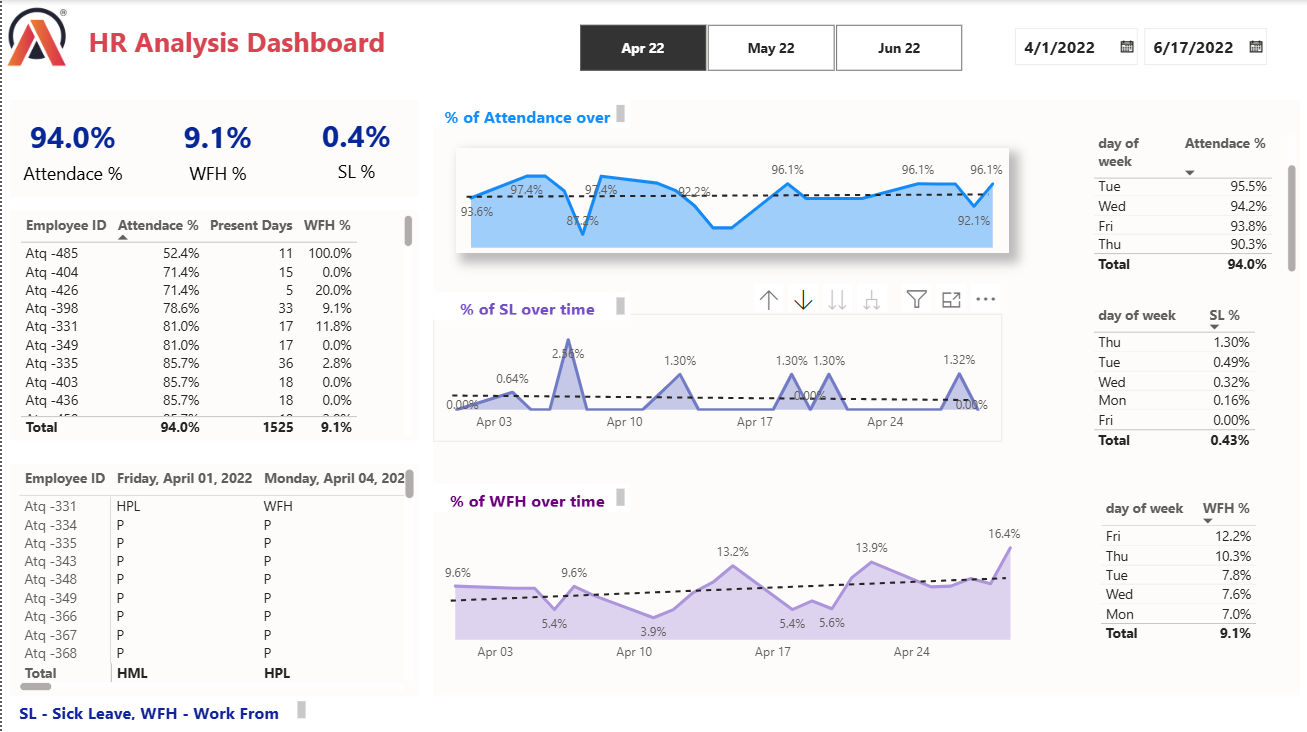

This screenshot's page, from the dashboard's own definition file:
{"tool":"powerbi","page":{"name":"Insights","canvas":[1280,720],"ordinal":0},"visuals":[{"type":"textbox","box":[7.8,205.6,399.9,225.5],"z":0},{"type":"textbox","box":[7.8,453.3,399.8,227.6],"z":1000},{"type":"textbox","box":[422.3,97.9,848.1,582.3],"z":2000},{"type":"textbox","box":[7.8,98,399.9,95.4],"z":3000},{"type":"tableEx","fields":{"Values":["Final Data.Employee ID","Measures (2).Attendace %","Measures (2).Present Days","Measures (2).WFH %"]},"box":[12.6,205.2,394.9,225.7],"z":4000},{"type":"slicer","fields":{"Values":["Final Data.Date"]},"box":[978.3,17.1,275.1,58.7],"z":5000},{"type":"slicer","fields":{"Values":["Final Data.MMM YY"]},"box":[539.3,17.1,424.3,58.7],"z":6000},{"type":"areaChart","fields":{"Category":["Final Data.MMM YY","Final Data.Date"],"Y":["Measures (2).WFH %"]},"box":[420.7,502.3,589,153.5],"z":7000},{"type":"areaChart","fields":{"Category":["Final Data.WeekNo","Final Data.Date"],"Y":["Measures (2).Attendace %"]},"box":[444.1,144.9,540.4,103.2],"z":8000},{"type":"card","fields":{"Values":["Measures (2).Attendace %"]},"box":[7.8,98,124,96.3],"z":9000},{"type":"card","fields":{"Values":["Measures (2).WFH %"]},"box":[141.4,98,138.8,96.3],"z":10000},{"type":"areaChart","fields":{"Category":["Final Data.MMM YY","Final Data.Date"],"Y":["Measures (2).SL %"]},"box":[422.5,307.1,556,124],"z":11000},{"type":"image","box":[0,0,70,71],"z":12000},{"type":"card","fields":{"Values":["Measures (2).SL %"]},"box":[286.3,97.2,121.4,96.3],"z":13000},{"type":"textbox","box":[70.3,0,320.1,71.1],"z":14000},{"type":"textbox","box":[422.4,98.2,192.5,27.5],"z":15000},{"type":"textbox","box":[422.5,286.3,192.6,26.9],"z":16000},{"type":"textbox","box":[422.1,473.7,192.6,27.2],"z":17000},{"type":"pivotTable","fields":{"Rows":["Final Data.Employee ID"],"Columns":["Final Data.Date"],"Values":["Min(Final Data.Value)"]},"box":[11.7,453.3,395.9,227.6],"z":18000},{"type":"textbox","box":[12.2,681.1,289.8,28.1],"z":19000},{"type":"tableEx","fields":{"Values":["Final Data.day of week","Measures (2).Attendace %"]},"box":[1060.9,125.8,209.9,145.7],"z":20000},{"type":"tableEx","fields":{"Values":["Final Data.day of week","Measures (2).SL %"]},"box":[1060.9,294.1,191.7,167.4],"z":21000},{"type":"tableEx","fields":{"Values":["Final Data.day of week","Measures (2).WFH %"]},"box":[1068.7,483.2,170,167.4],"z":22000}]}

Visuals, with their boxes in screenshot pixels (x1, y1, x2, y2), scaled from the page's 1280x720 canvas onto the 1307x732 screenshot:
textbox: (x1=8, y1=209, x2=416, y2=438)
textbox: (x1=8, y1=461, x2=416, y2=692)
textbox: (x1=431, y1=100, x2=1297, y2=692)
textbox: (x1=8, y1=100, x2=416, y2=197)
tableEx - Final Data.Employee ID x Measures (2).Attendace %: (x1=13, y1=209, x2=416, y2=438)
slicer - Final Data.Date: (x1=999, y1=17, x2=1280, y2=77)
slicer - Final Data.MMM YY: (x1=551, y1=17, x2=984, y2=77)
areaChart - Final Data.MMM YY x Final Data.Date: (x1=430, y1=511, x2=1031, y2=667)
areaChart - Final Data.WeekNo x Final Data.Date: (x1=453, y1=147, x2=1005, y2=252)
card - Measures (2).Attendace %: (x1=8, y1=100, x2=135, y2=198)
card - Measures (2).WFH %: (x1=144, y1=100, x2=286, y2=198)
areaChart - Final Data.MMM YY x Final Data.Date: (x1=431, y1=312, x2=999, y2=438)
image: (x1=0, y1=0, x2=71, y2=72)
card - Measures (2).SL %: (x1=292, y1=99, x2=416, y2=197)
textbox: (x1=72, y1=0, x2=399, y2=72)
textbox: (x1=431, y1=100, x2=628, y2=128)
textbox: (x1=431, y1=291, x2=628, y2=318)
textbox: (x1=431, y1=482, x2=628, y2=509)
pivotTable - Final Data.Employee ID x Final Data.Date: (x1=12, y1=461, x2=416, y2=692)
textbox: (x1=12, y1=692, x2=308, y2=721)
tableEx - Final Data.day of week x Measures (2).Attendace %: (x1=1083, y1=128, x2=1298, y2=276)
tableEx - Final Data.day of week x Measures (2).SL %: (x1=1083, y1=299, x2=1279, y2=469)
tableEx - Final Data.day of week x Measures (2).WFH %: (x1=1091, y1=491, x2=1265, y2=661)
